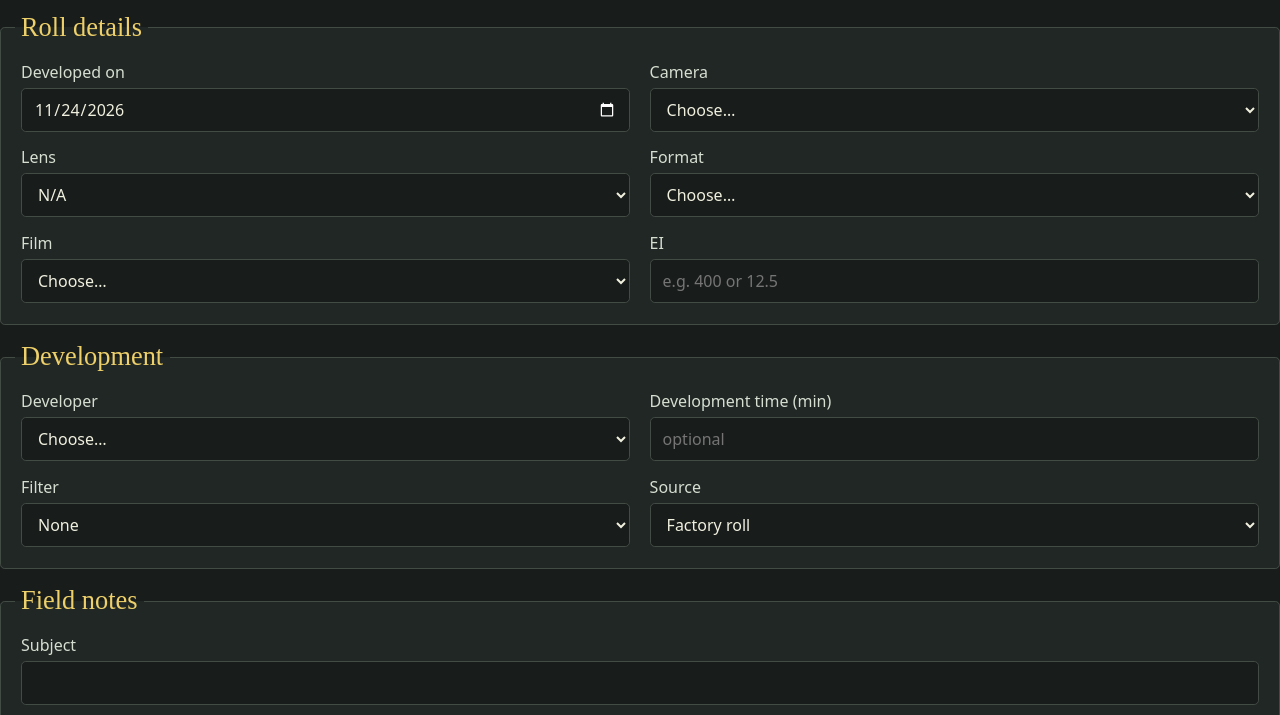
it: picking a film sets EI to box ISO and updates stops live
Step 1. Select "Tri-X" in the dropdown labelled "Film" → (326, 281), box [21,259,630,303]
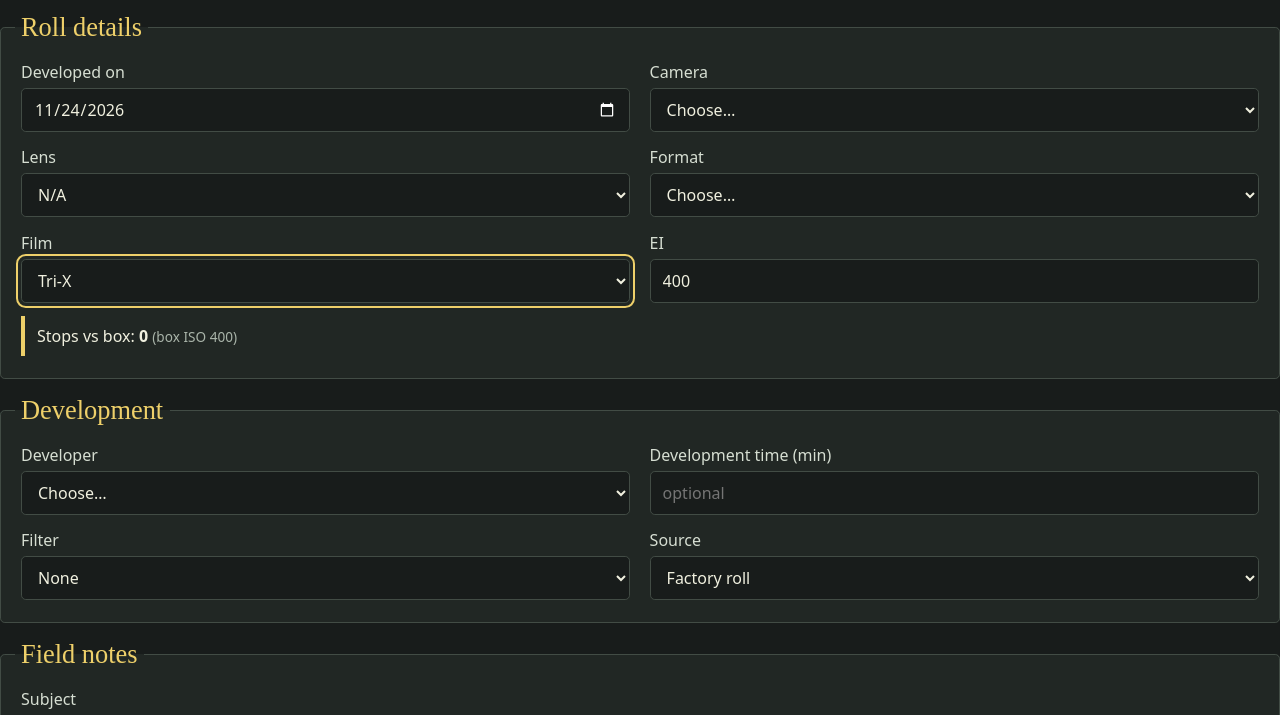
Expected: the field labelled "EI" holds "400"
Expected: the text "Stops vs box: 0 (box ISO 400)" is shown, [21,316,1259,356]
Step 2. Replace the text in the field labelled "EI" with "800" → (954, 281), box [650,259,1259,303]
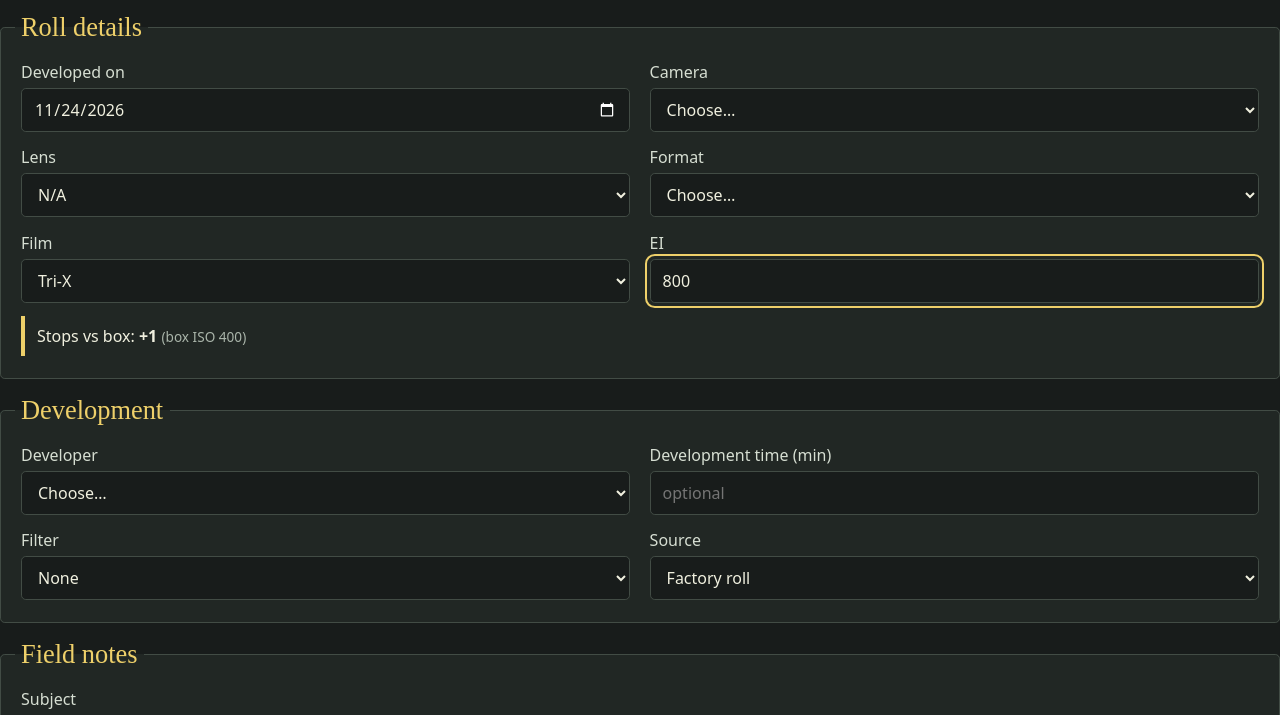
Expected: the text "Stops vs box: +1 (box ISO 400)" is shown, [21,316,1259,356]
Step 3. Replace the text in the field labelled "EI" with "250" → (954, 281), box [650,259,1259,303]
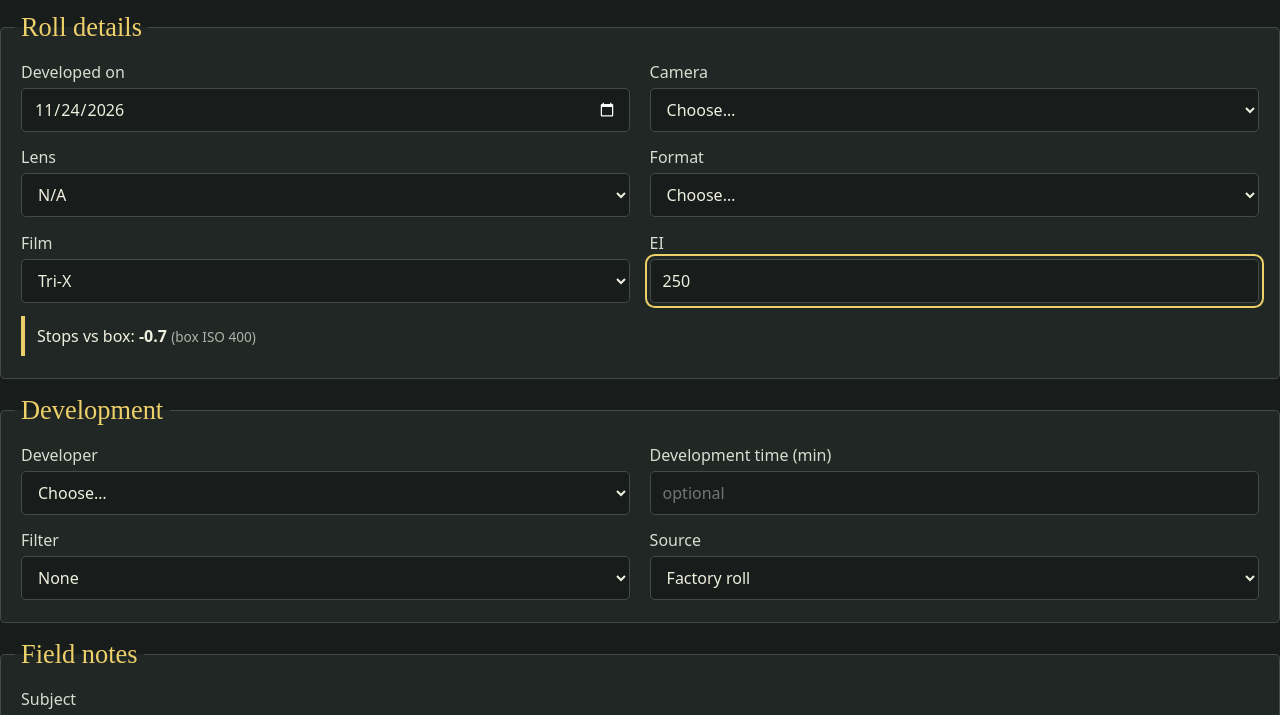
Expected: the text "Stops vs box: -0.7 (box ISO 400)" is shown, [21,316,1259,356]
Step 4. Select "Portra 160" in the dropdown labelled "Film" → (326, 281), box [21,259,630,303]
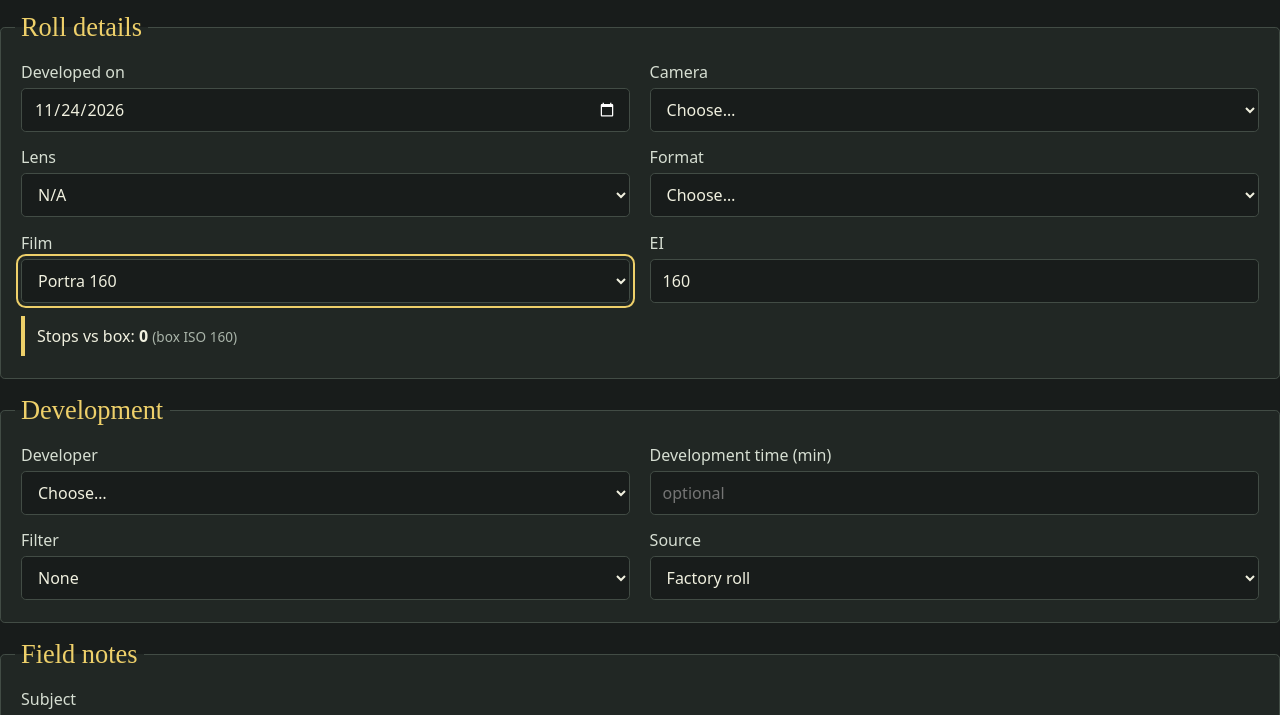
Expected: the field labelled "EI" holds "160", [650,259,1259,303]
Expected: the text "Stops vs box: 0 (box ISO 160)" is shown, [21,316,1259,356]
